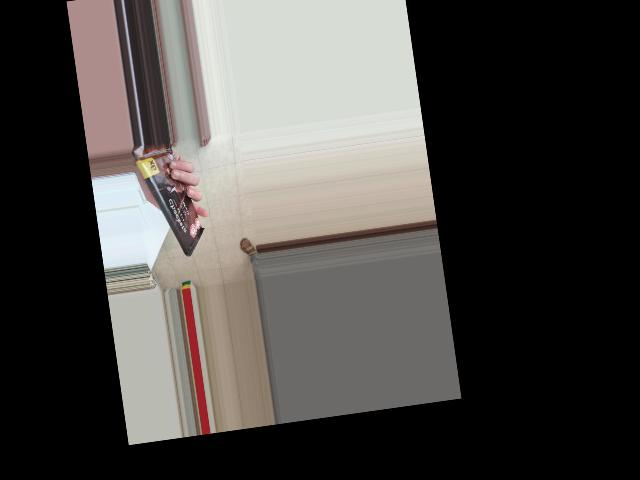chocolate: (138, 138, 205, 258)
